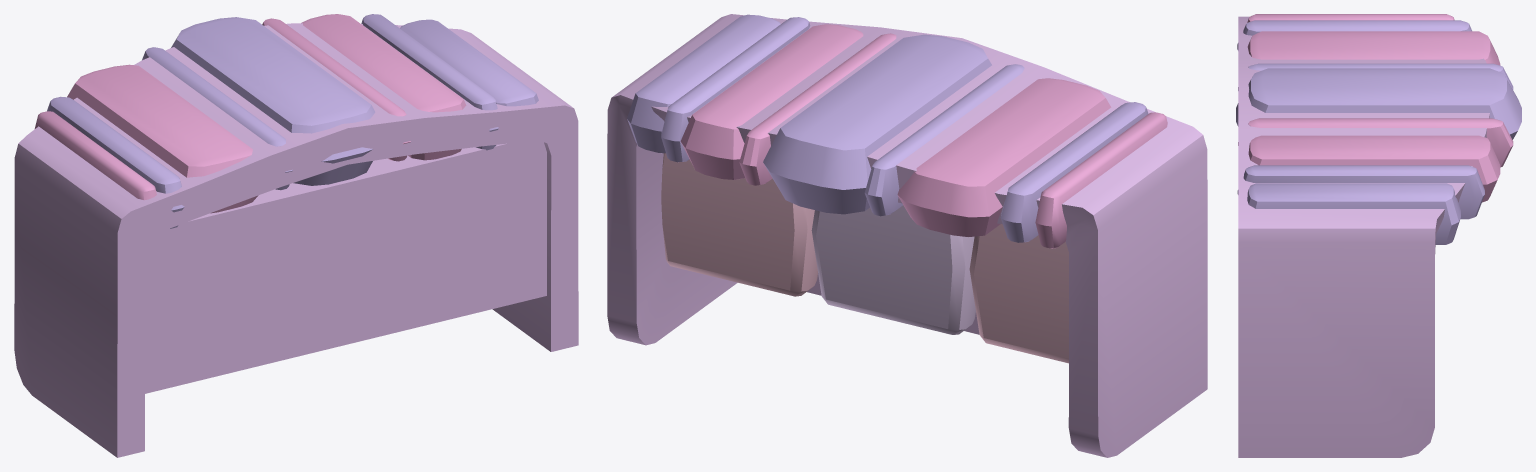
File: Mini furniture.fbx
3 views of the same model, side by side, from view 1: azimuth 30°, elevation 25°; view 2: azimuth 150°, elevation 25°; view 3: azimuth 270°, elevation 25° (orthographic). The views are drawn at different scales.
Visible parts, largest first — view 1: mueble_mini; view 2: mueble_mini; view 3: mueble_mini.
Boxes of the visible parts, x1,y1,x2,y2 form: mueble_mini: (14, 14, 578, 457); mueble_mini: (607, 14, 1207, 457); mueble_mini: (1236, 14, 1521, 457).
Bounding box in the file's own units: 2.08 × 1.21 × 1.17.
